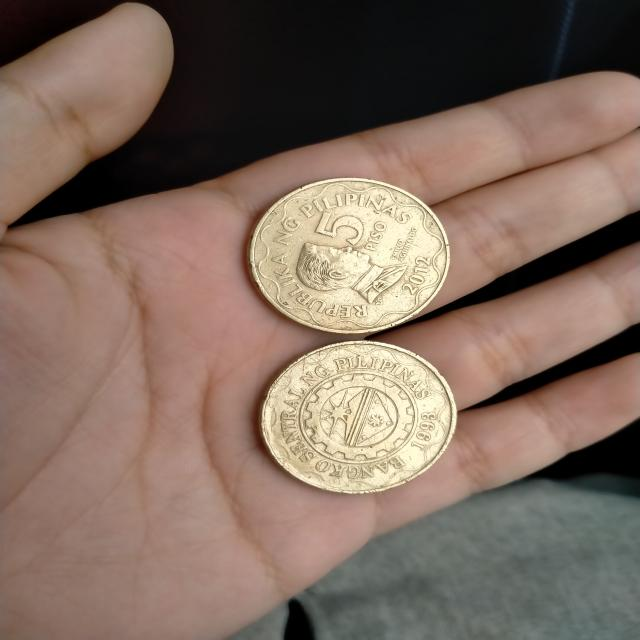5_Old_Back: (273, 338, 459, 496)
5_Old_Front: (305, 202, 403, 255)
